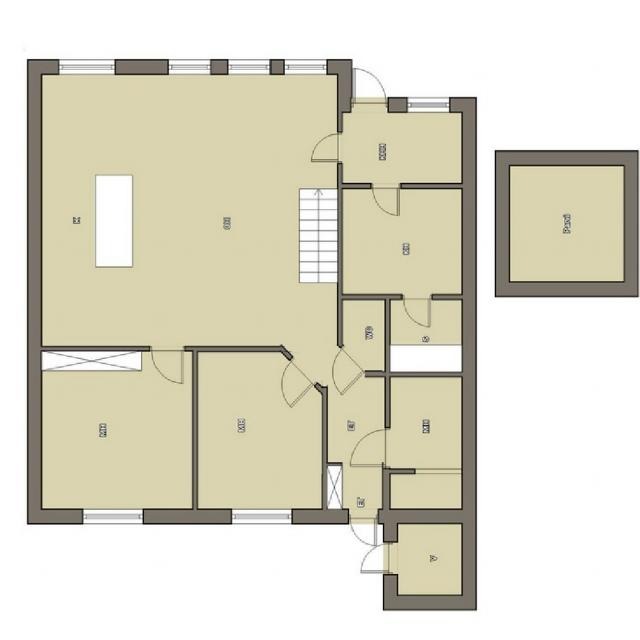door: (318, 346, 366, 395), (270, 358, 316, 408), (348, 429, 388, 466), (355, 66, 385, 112), (355, 543, 398, 573), (151, 347, 182, 384), (350, 509, 376, 552), (372, 184, 399, 216), (312, 133, 342, 161), (404, 294, 430, 326)
